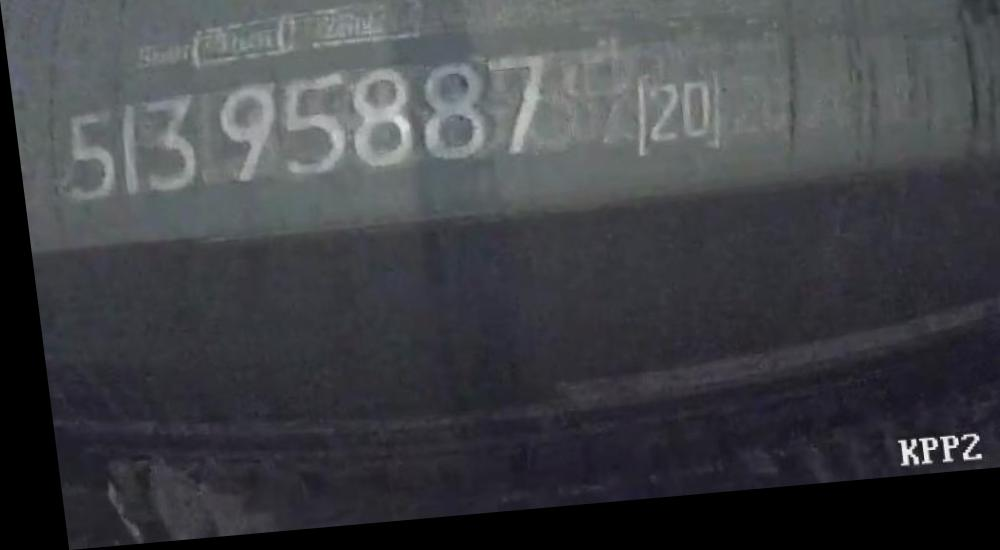Wagon-number: (42, 56, 565, 208)
